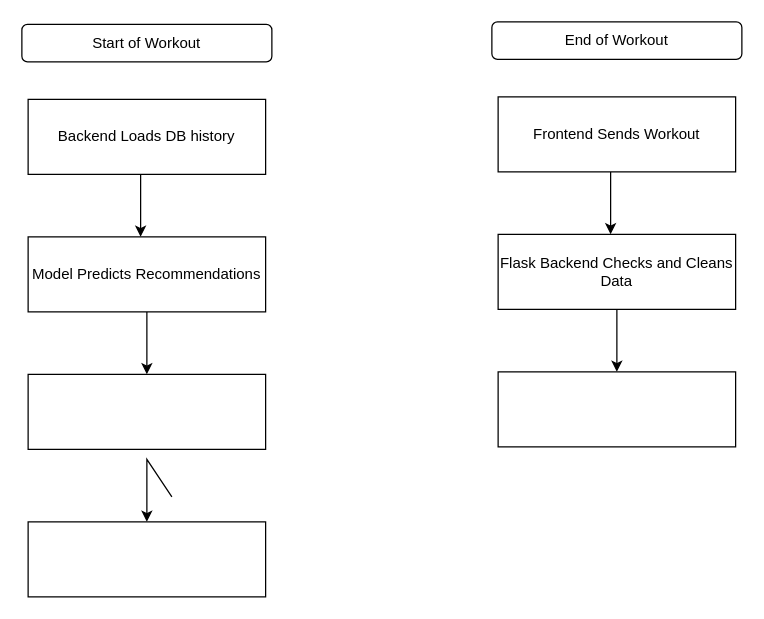
Some shapes in this 764 by 619 pixel diagram are drawn without their labels. The shapes that lost their labels are listed below. From the top down, each one's centre as x and y in pixels, then its label:
At (x=146, y=411): "Backend Returns recommendations".
At (x=616, y=409): "Database Saves Workout".
At (x=146, y=559): "Frontend Displays Recommendations".
